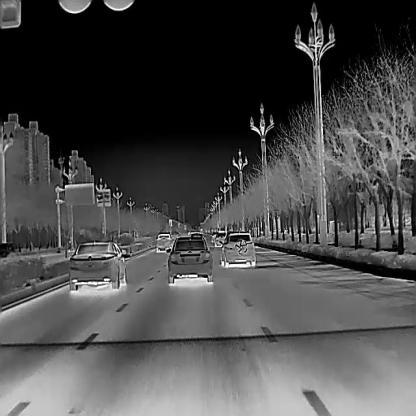car: (68, 240, 128, 291), (165, 234, 213, 282), (219, 231, 256, 267), (156, 231, 174, 252), (213, 230, 225, 246)
